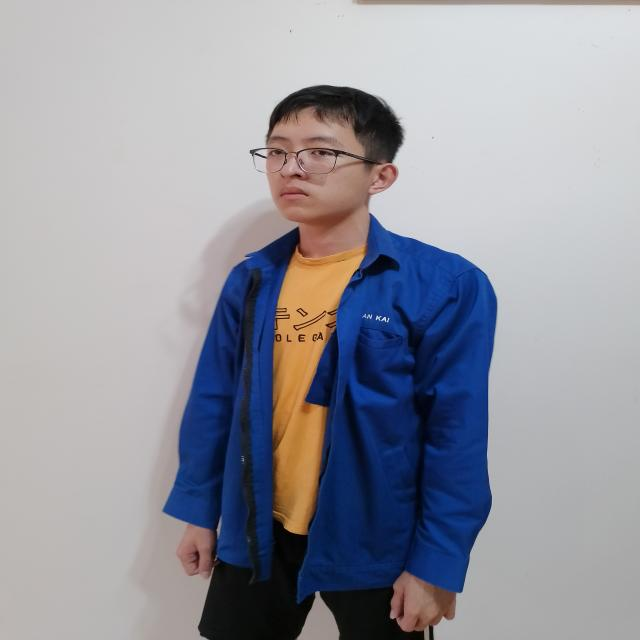person_with_labcoat: (164, 86, 496, 640)
